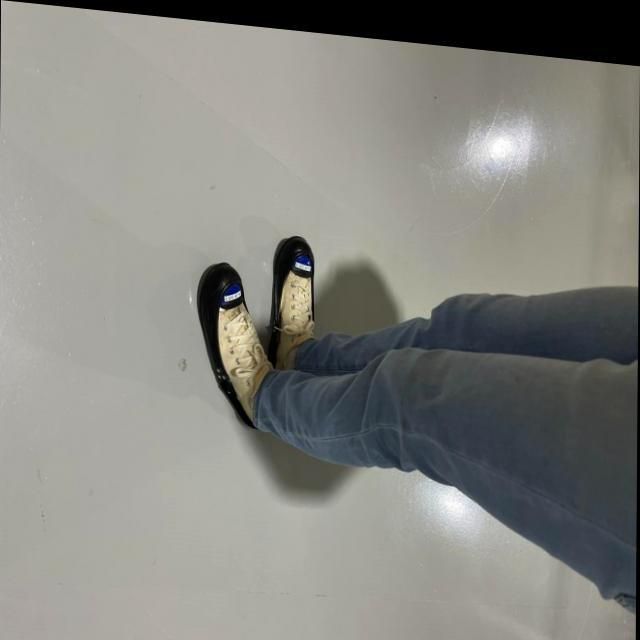shoes: (188, 252, 252, 432), (262, 226, 326, 370)
